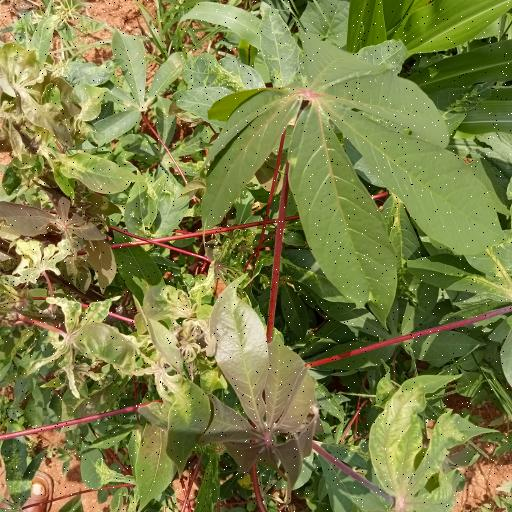Cassava_Healthy: (204, 5, 504, 303)
